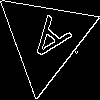A: (20, 14, 73, 71)
